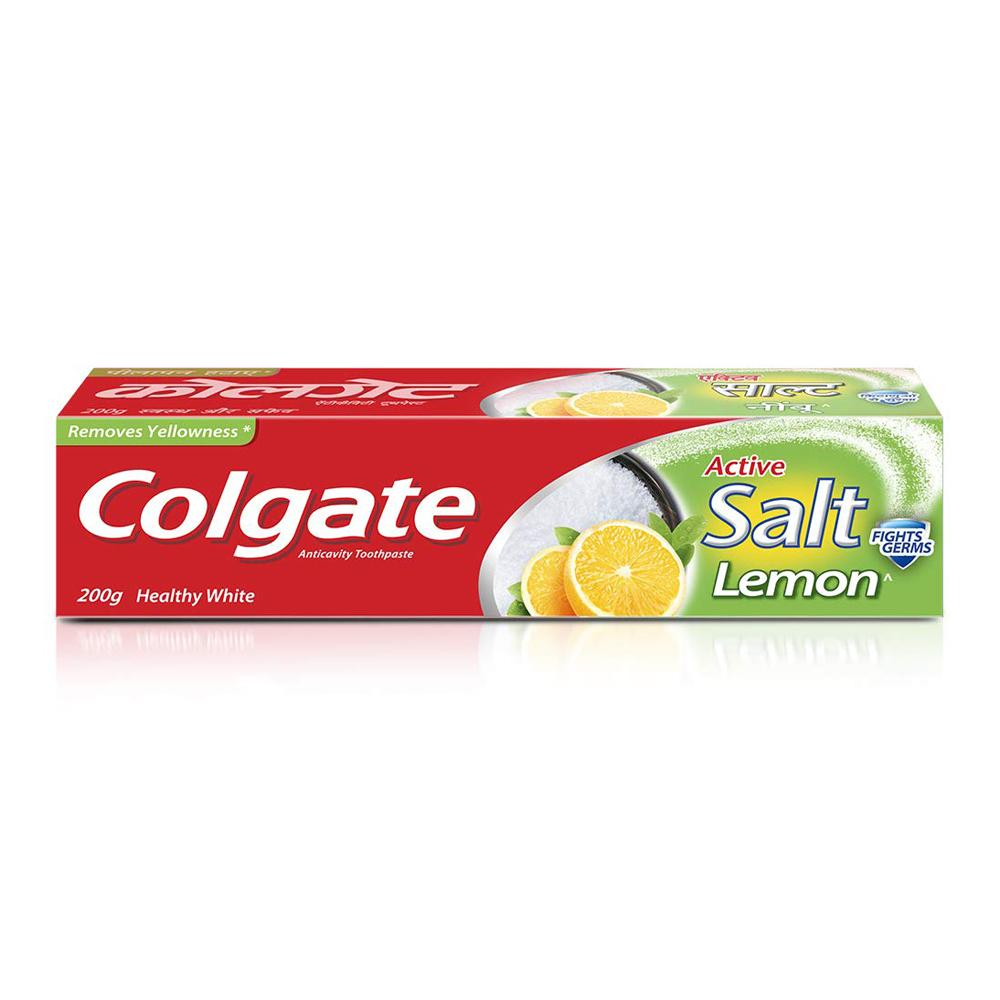Colgate: (58, 365, 944, 617)
